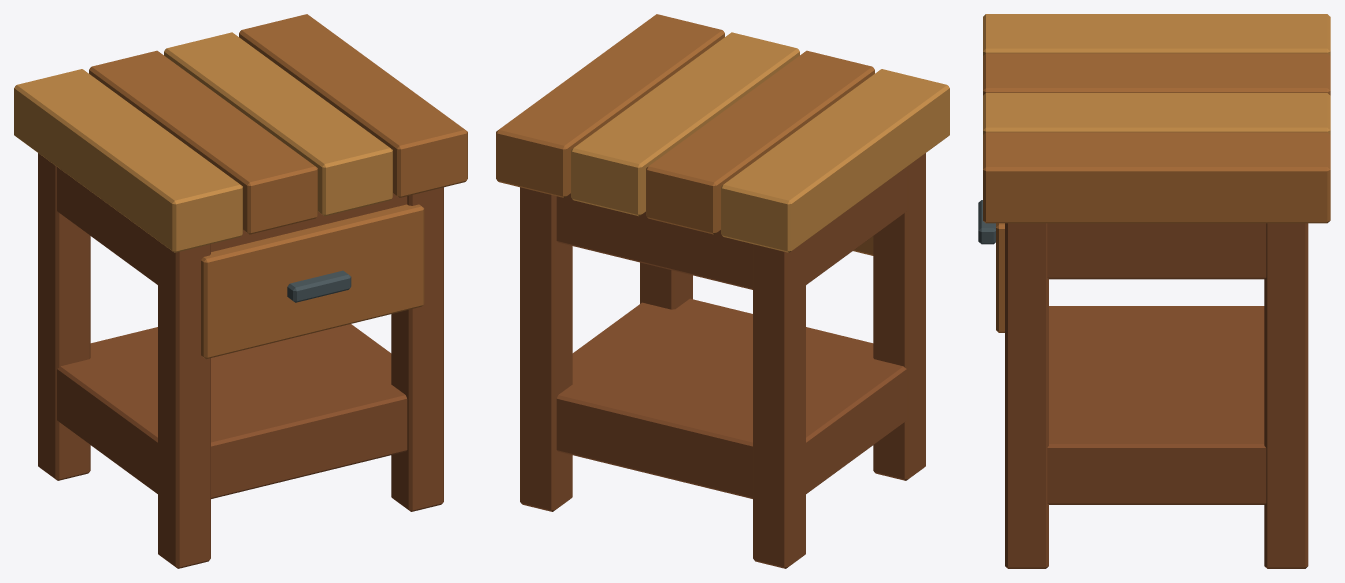
The model's file is nightstand.glb.
The picture shows the model from 3 angles, left to right: view 1: azimuth 30°, elevation 25°; view 2: azimuth 150°, elevation 25°; view 3: azimuth 270°, elevation 25°; orthographic projection. The views are drawn at different scales.
Parts seen in each view (by area): view 1: nightstand__body__oak, nightstand__body__oak2, nightstand__body__oak3, nightstand__body__metal; view 2: nightstand__body__oak, nightstand__body__oak3, nightstand__body__oak2; view 3: nightstand__body__oak, nightstand__body__oak2, nightstand__body__oak3, nightstand__body__metal.
Part boxes in pixels (x1=…): nightstand__body__oak: x1=38, y1=153, x2=443, y2=568; nightstand__body__oak2: x1=89, y1=14, x2=467, y2=359; nightstand__body__oak3: x1=14, y1=32, x2=392, y2=252; nightstand__body__metal: x1=287, y1=270, x2=351, y2=302; nightstand__body__oak: x1=520, y1=153, x2=925, y2=568; nightstand__body__oak3: x1=571, y1=32, x2=949, y2=252; nightstand__body__oak2: x1=496, y1=14, x2=874, y2=255; nightstand__body__oak: x1=1005, y1=223, x2=1308, y2=568; nightstand__body__oak2: x1=983, y1=53, x2=1330, y2=332; nightstand__body__oak3: x1=983, y1=14, x2=1330, y2=134; nightstand__body__metal: x1=978, y1=200, x2=995, y2=244.
Size of the model in its own units: 0.71 by 0.87 by 0.6785.
